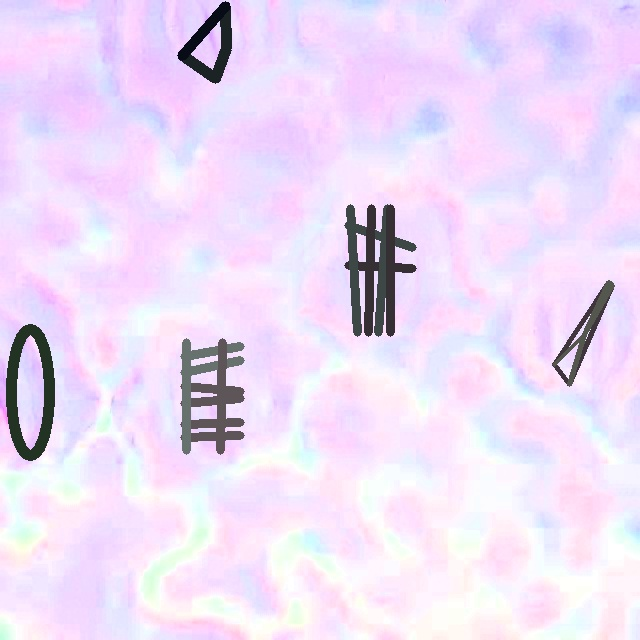close: (344, 205, 416, 335), (181, 338, 244, 453), (553, 281, 614, 386)
open: (7, 323, 54, 461), (177, 2, 230, 83)
